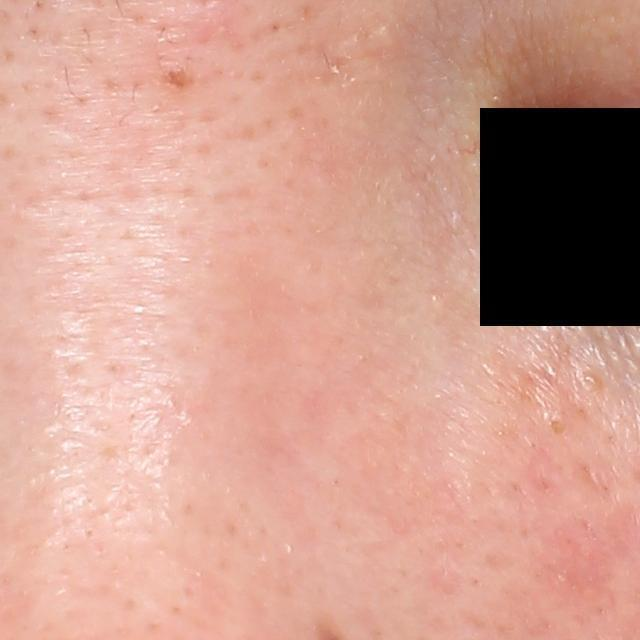comedo: (548, 414, 569, 438)
